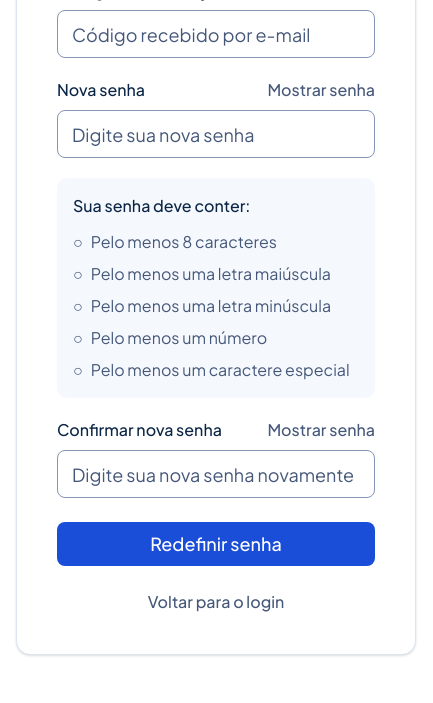
Test: reset password screen › shows a reactive mismatch message
(page scrolled)
Type "123456" into the field with id "code" at (216, 34), box x1=57 y1=10 x2=375 y2=58
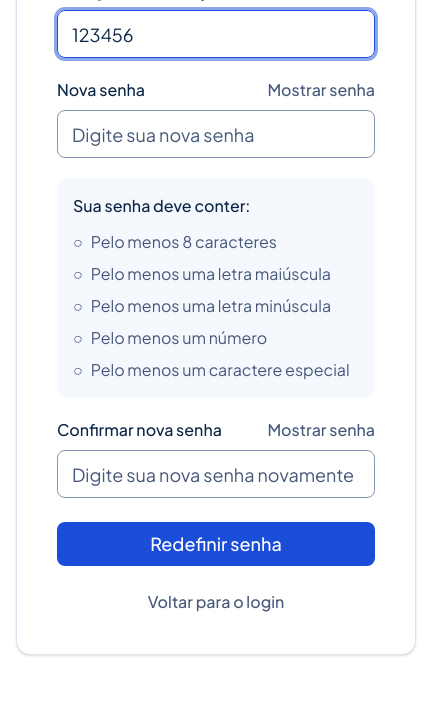
Type "Senha@Forte1" into the password field labelled "Nova senha" at (216, 134), box x1=57 y1=110 x2=375 y2=158
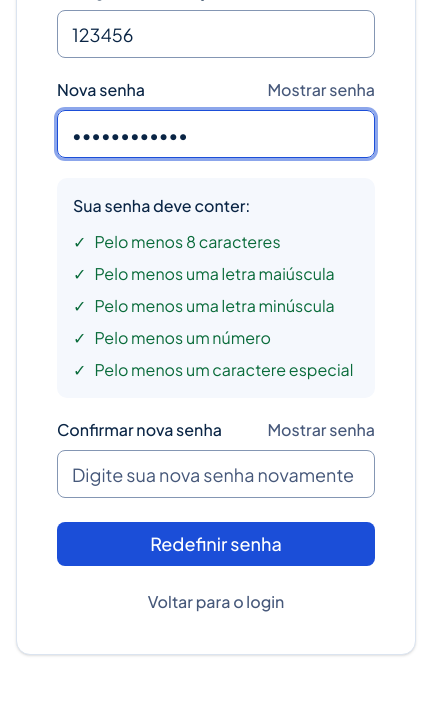
Type "outra-senha" into the password field with id "confirm-password" at (216, 474), box x1=57 y1=450 x2=375 y2=498
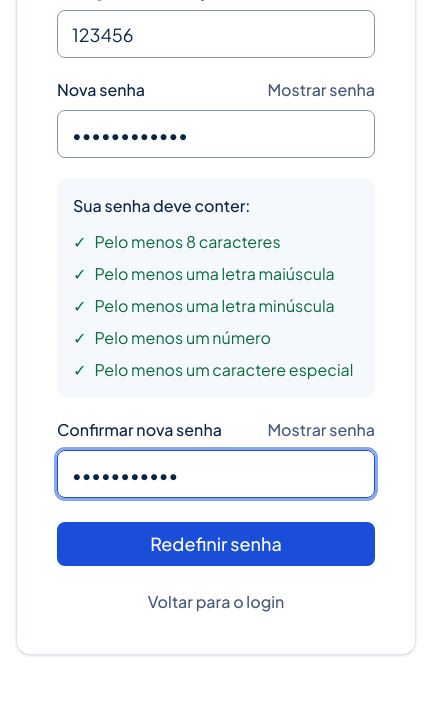
Click the button "Redefinir senha" at (216, 544), box x1=57 y1=522 x2=375 y2=566
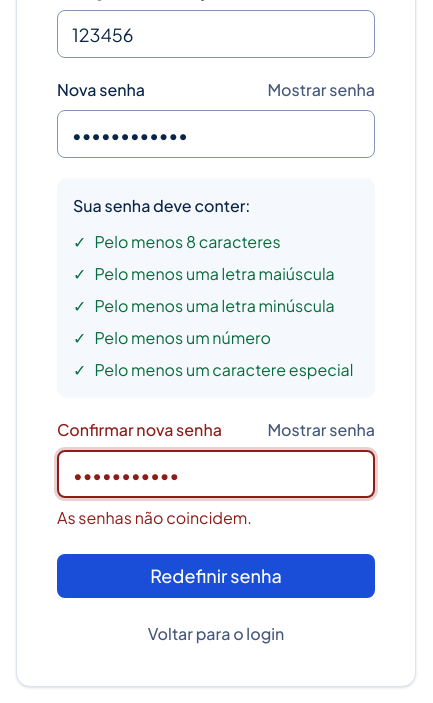
Expected: the text "As senhas não coincidem." is shown, x1=57 y1=507 x2=252 y2=528
